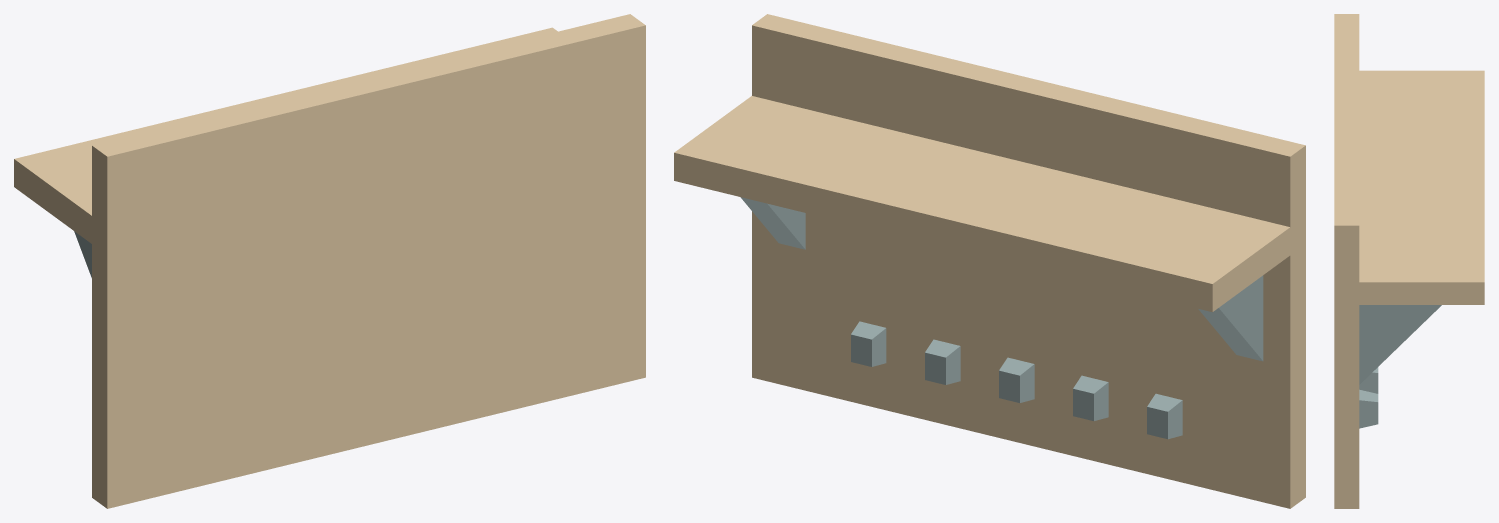
Rendered from coatRack.glb.
3 renders of one model, left to right at view 1: azimuth 30°, elevation 25°; view 2: azimuth 150°, elevation 25°; view 3: azimuth 270°, elevation 25°, orthographic. The views are drawn at different scales.
Parts seen in each view (by area): view 1: coatRack; view 2: coatRack; view 3: coatRack.
Boxes of the visible parts, left/top/right/bottom form: coatRack: left=14, top=14, right=645, bottom=508; coatRack: left=674, top=14, right=1305, bottom=508; coatRack: left=1334, top=14, right=1484, bottom=508.
Size of the model in its own units: 4.48 by 2.8 by 1.34.
